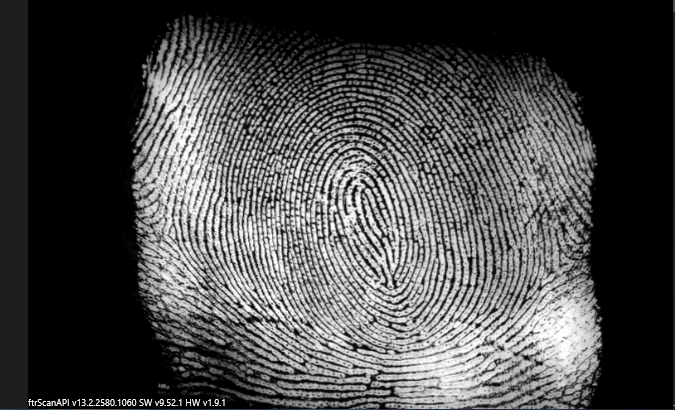nucelo: (354, 191, 384, 225)
verticilo: (155, 218, 187, 246), (554, 252, 577, 273)
